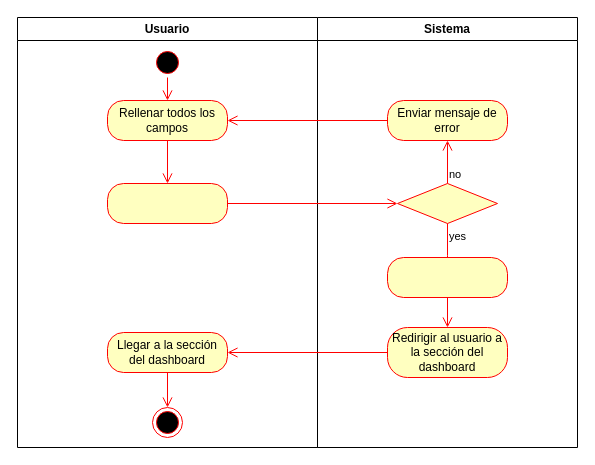
The diagram is 595 pixels wide and 465 high, and some of its shapes have lost their labels. The shapes that lost their labels are listed below. From the top down, each one's centre as x and y in pixels, then its label:
At pixel 167 203: "Presionar botón de inicio de sesión".
At pixel 447 203: "Validar Datos".
At pixel 447 277: "Enviar token de validación".
